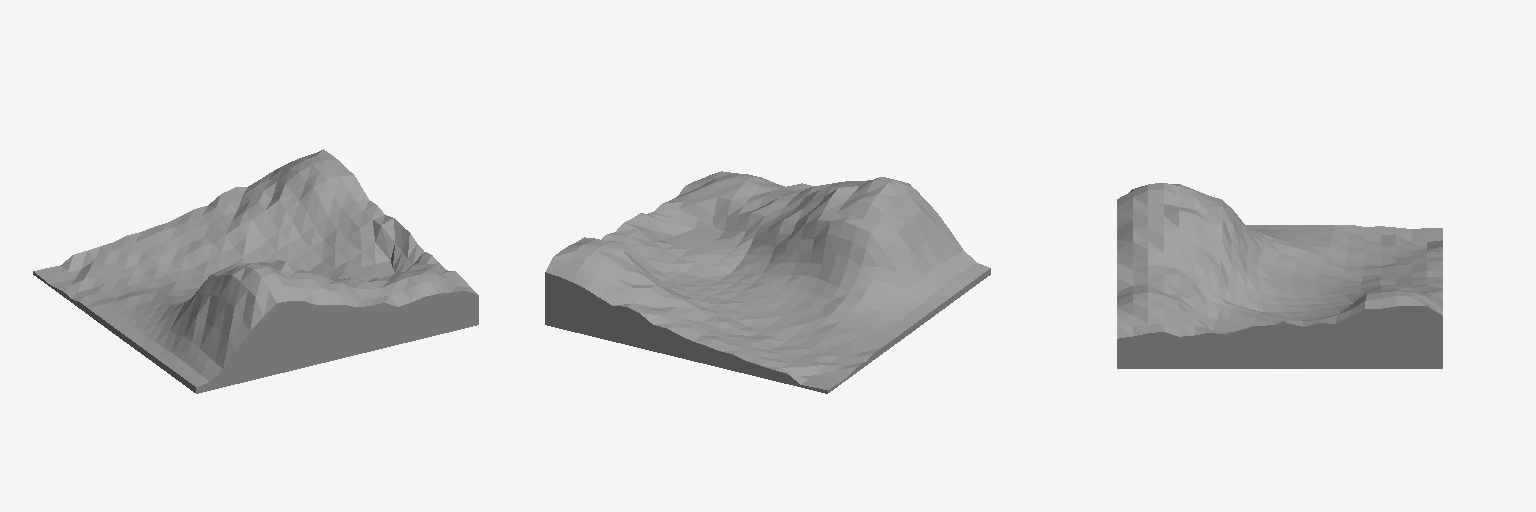
Rendered from Grond_2_002.obj.
3 renders of one model, left to right at view 1: azimuth 30°, elevation 25°; view 2: azimuth 150°, elevation 25°; view 3: azimuth 270°, elevation 25°, orthographic.
Visible parts, largest first — view 1: Plane; view 2: Plane; view 3: Plane.
Boxes of the visible parts, box(x1,y1,x2,y2) form: Plane: box(33, 149, 478, 393); Plane: box(545, 171, 990, 393); Plane: box(1117, 183, 1442, 368).
Bounding box in the file's own units: 20.35 × 6.05 × 20.32.